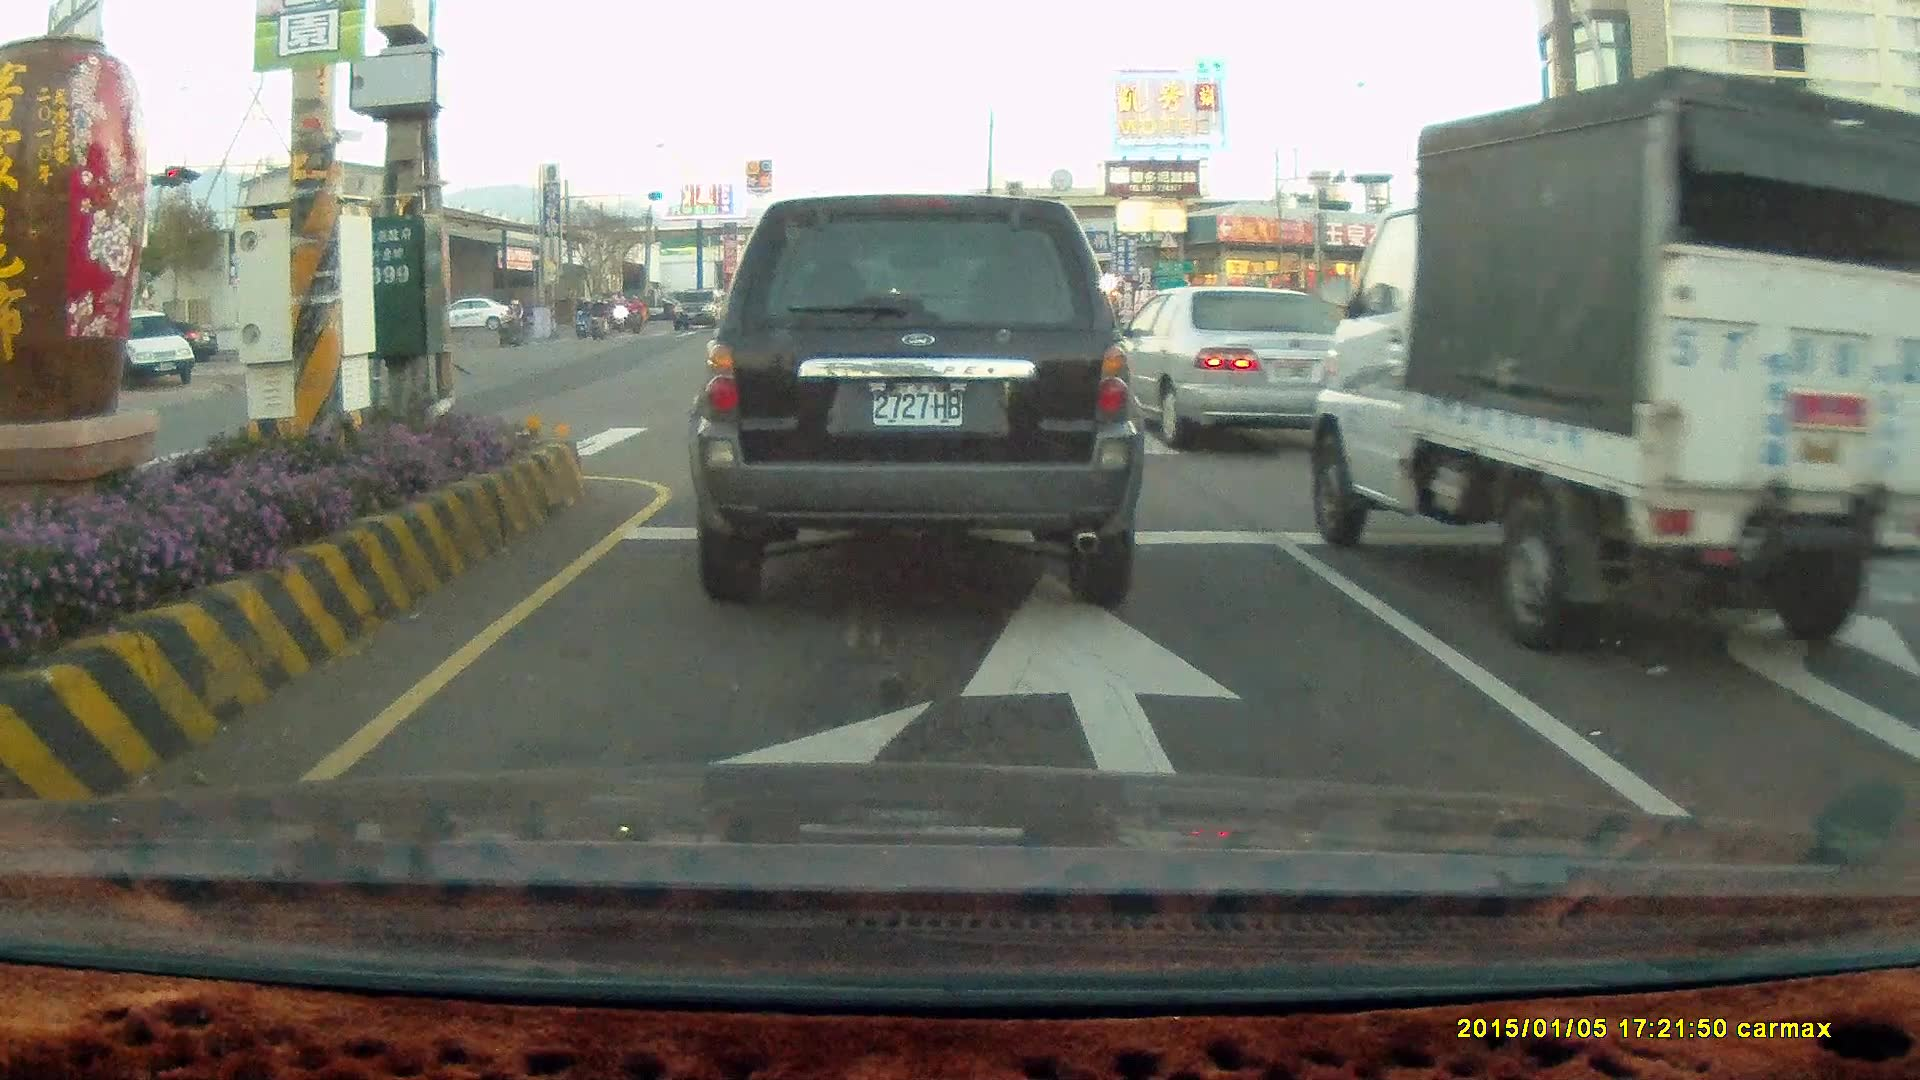rider: (496, 297, 529, 345), (585, 292, 612, 344), (571, 292, 593, 341), (624, 293, 646, 335)
vehicle: (1310, 62, 1920, 658), (683, 191, 1145, 603), (1103, 280, 1378, 449), (1104, 286, 1369, 456), (1695, 285, 1852, 372), (99, 310, 198, 391), (448, 299, 510, 336)
